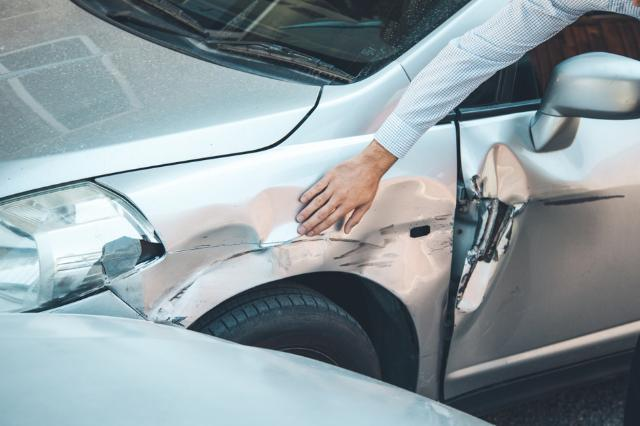Door: (445, 113, 640, 406)
Fender: (111, 137, 463, 352)
